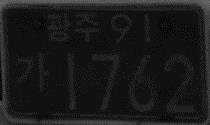1: (64, 49, 80, 113), (139, 11, 154, 49)
2: (163, 53, 198, 114)
6: (129, 54, 158, 114)
7: (89, 50, 120, 113)
9: (109, 11, 133, 45)
가: (13, 51, 50, 97)
광주_O: (45, 10, 101, 44)
